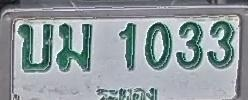0: (145, 22, 172, 70)
1: (118, 23, 136, 70)
3: (176, 21, 203, 69), (208, 20, 234, 68)
A26: (18, 23, 54, 72)
A33: (57, 22, 92, 72)
RYG: (92, 84, 161, 100)
